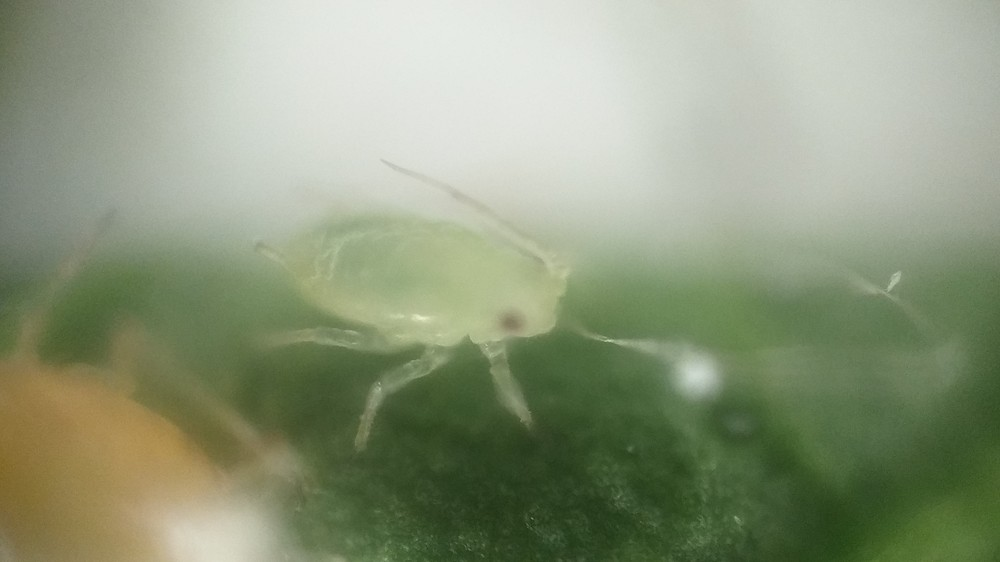Pulgon: (219, 141, 599, 439)
